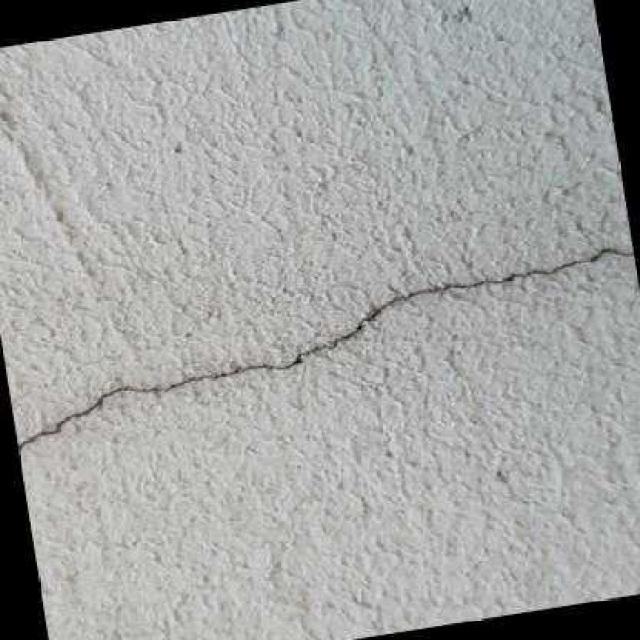D00: (16, 249, 633, 450)
